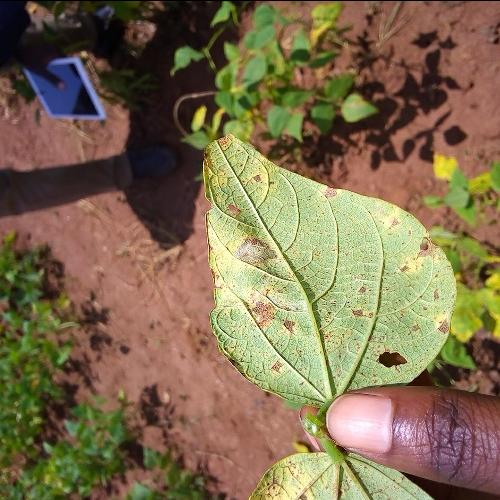hawar: (239, 171, 328, 381)
mozaik: (374, 308, 426, 374)
